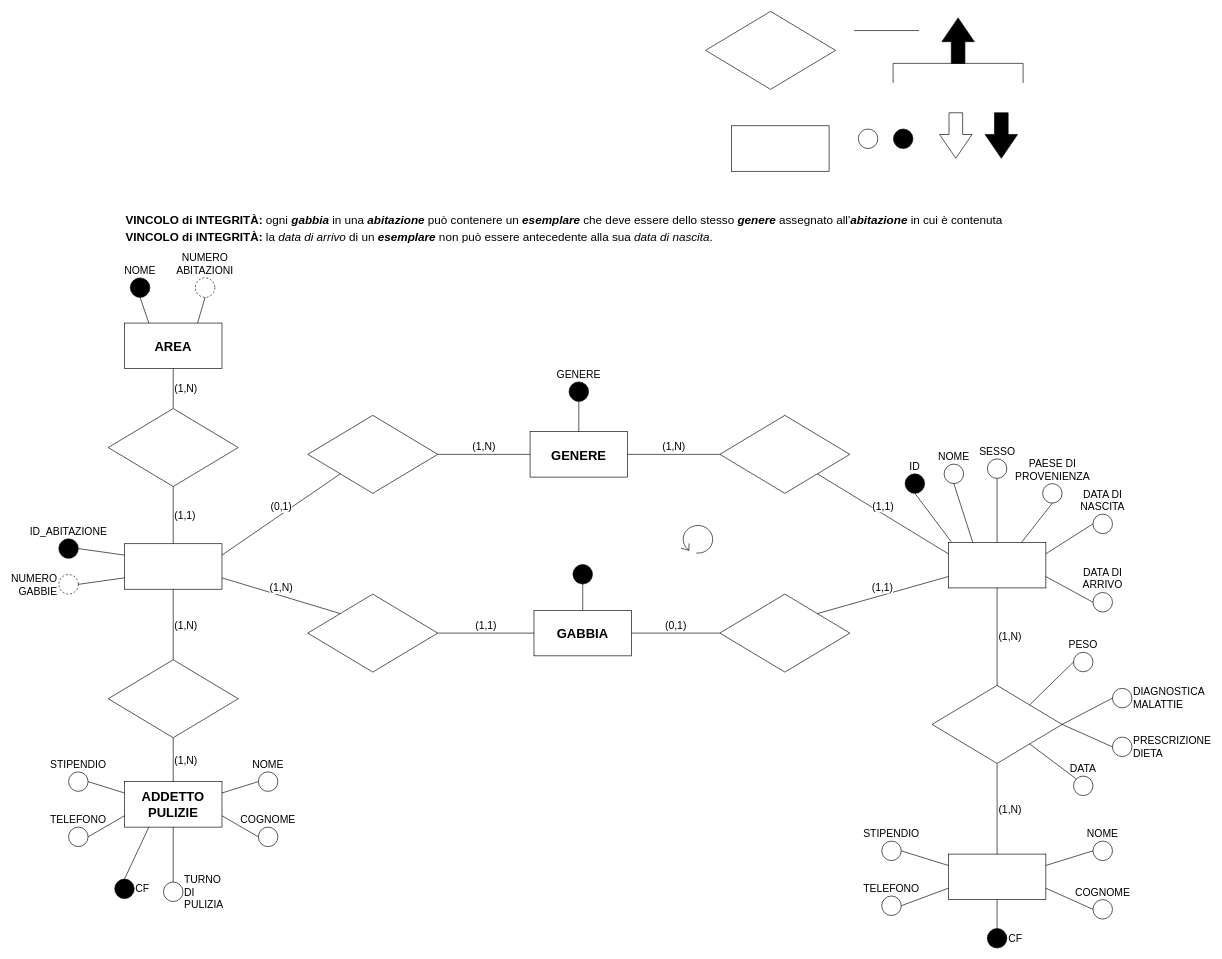
This 1222x959 diagram has some shape labels left out. Here are the shapes that lost their labels. From the top down, the box of each, then its label:
(108, 408, 238, 487): COLLOCATA
(307, 415, 438, 493): ASSEGNATO
(719, 415, 850, 493): APPARTIENE
(124, 543, 222, 589): ABITAZIONE
(572, 564, 592, 584): ID_GABBIA
(948, 542, 1046, 588): ESEMPLARE
(307, 593, 438, 672): IN
(719, 593, 850, 672): CONTENUTO
(108, 659, 238, 738): PULIRE
(931, 685, 1062, 763): VISITARE
(948, 853, 1046, 900): VETERINARIO
